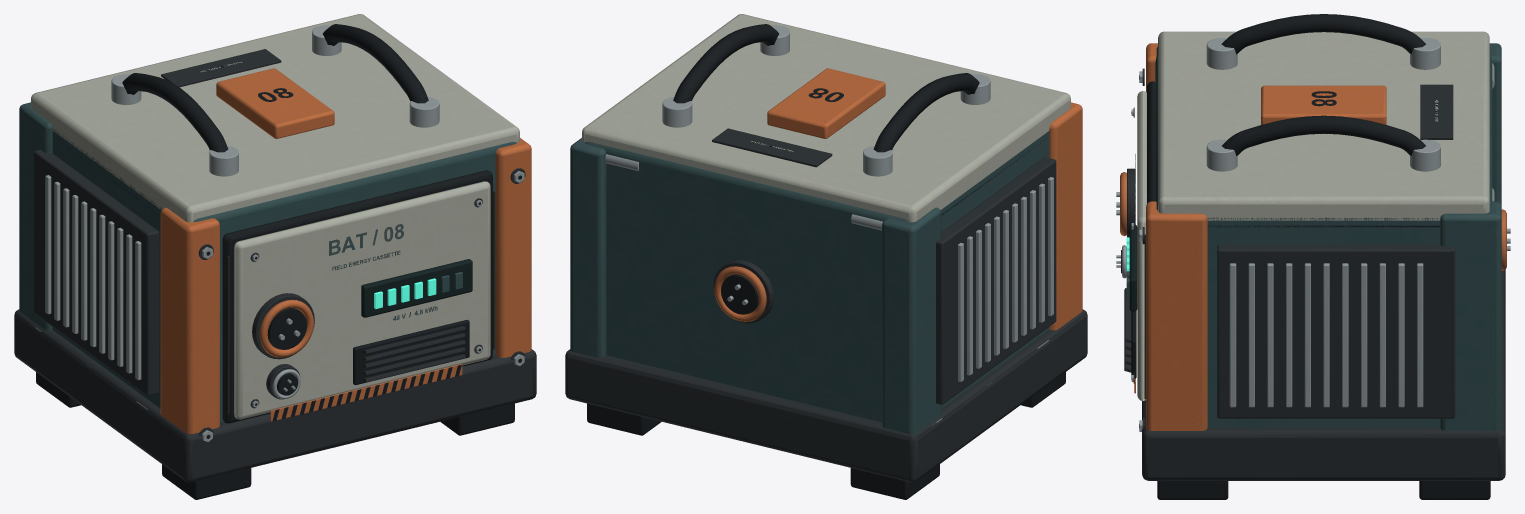
File: BatteryModule.glb
The picture shows the model from 3 angles, left to right: view 1: azimuth 30°, elevation 25°; view 2: azimuth 150°, elevation 25°; view 3: azimuth 270°, elevation 25°; orthographic projection. The views are drawn at different scales.
Visible parts, largest first — view 1: BatteryModule_Geometry; view 2: BatteryModule_Geometry; view 3: BatteryModule_Geometry.
Part boxes in pixels (<box>): BatteryModule_Geometry: <box>14,14,536,499</box>; BatteryModule_Geometry: <box>565,14,1087,499</box>; BatteryModule_Geometry: <box>1116,14,1510,499</box>.
Bounding box in the file's own units: 0.82 × 0.7312 × 0.737.
1 material, 1 textured.
